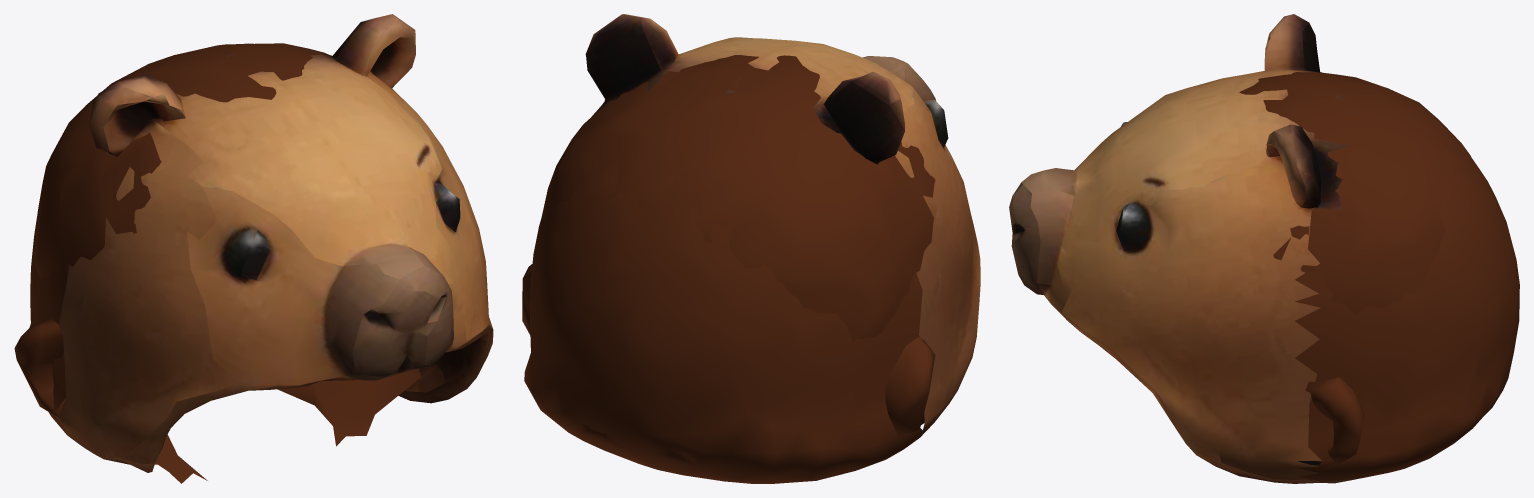
File: capybara.glb
3 views of the same model, side by side, from view 1: azimuth 30°, elevation 25°; view 2: azimuth 150°, elevation 25°; view 3: azimuth 270°, elevation 25° (orthographic). The views are drawn at different scales.
Parts seen in each view (by area): view 1: geometry_0, HoodAnatomicalLining; view 2: geometry_0, HoodAnatomicalLining; view 3: geometry_0, HoodAnatomicalLining.
Part boxes in pixels (x1=…): geometry_0: x1=29, y1=14, x2=493, y2=472; HoodAnatomicalLining: x1=14, y1=43, x2=420, y2=483; geometry_0: x1=524, y1=14, x2=980, y2=483; HoodAnatomicalLining: x1=522, y1=55, x2=935, y2=436; geometry_0: x1=1009, y1=14, x2=1519, y2=483; HoodAnatomicalLining: x1=1239, y1=72, x2=1470, y2=466.
Bounding box in the file's own units: 0.4654 × 0.4336 × 0.54.
Materials: 2 (1 with a texture image).
